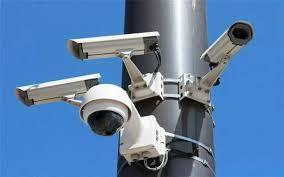maru: (77, 85, 141, 141)
tutu: (14, 65, 108, 110), (66, 27, 168, 66), (199, 12, 260, 76)
